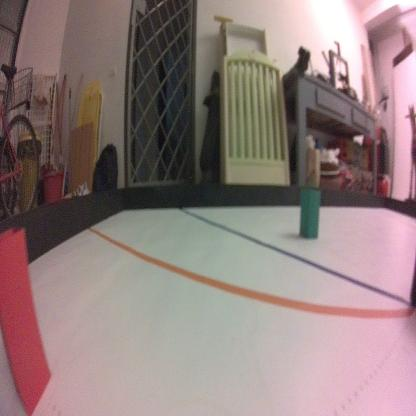green: (298, 187, 322, 239)
red: (0, 223, 52, 415)
